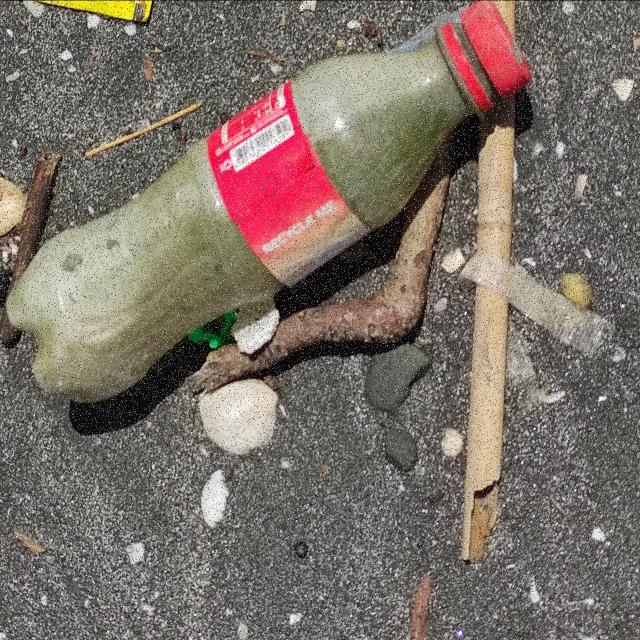plastic_waste: (2, 1, 535, 406)
